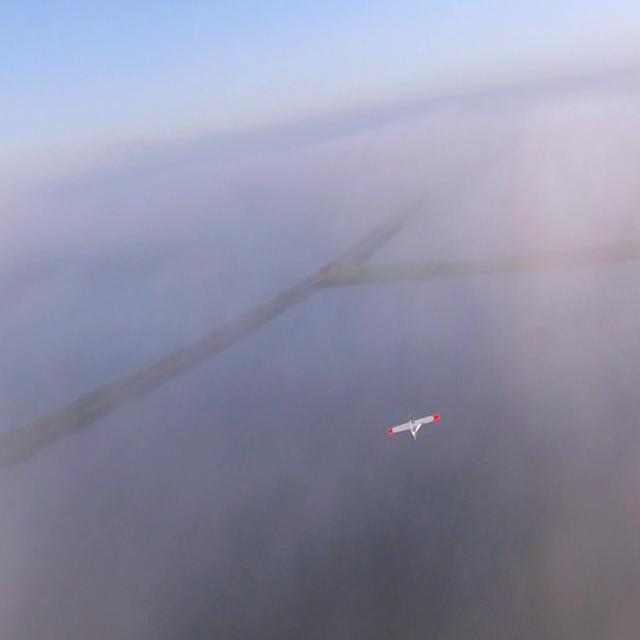iha: (387, 412, 443, 443)
